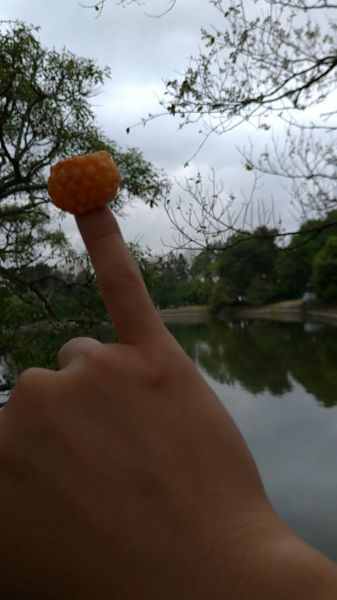eggs: (44, 151, 123, 214)
